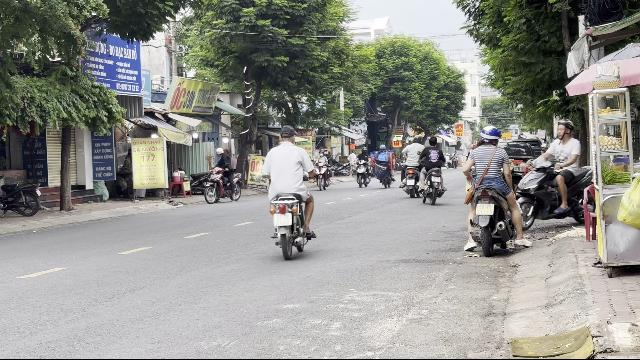helmet: (479, 125, 501, 145)
licenseplate: (274, 214, 292, 226), (476, 205, 494, 215)
motorcyclist: (514, 119, 598, 228), (460, 124, 522, 256), (260, 124, 316, 258)
nohelmet: (554, 118, 574, 140), (278, 124, 296, 144)
